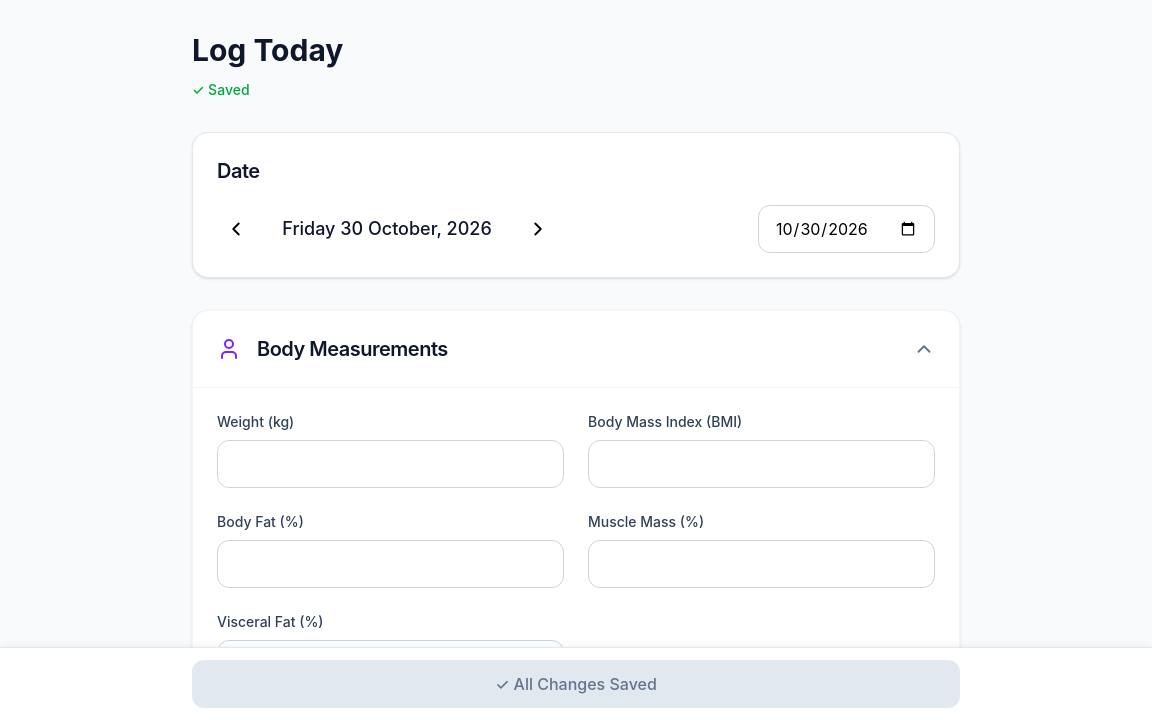
it: LogBodyMeasurements › handles save failure
The width and height of the screenshot is (1152, 720).
Type "18.5" into the number field labelled "Body Fat (%)" at (390, 564), box [217,540,564,588]
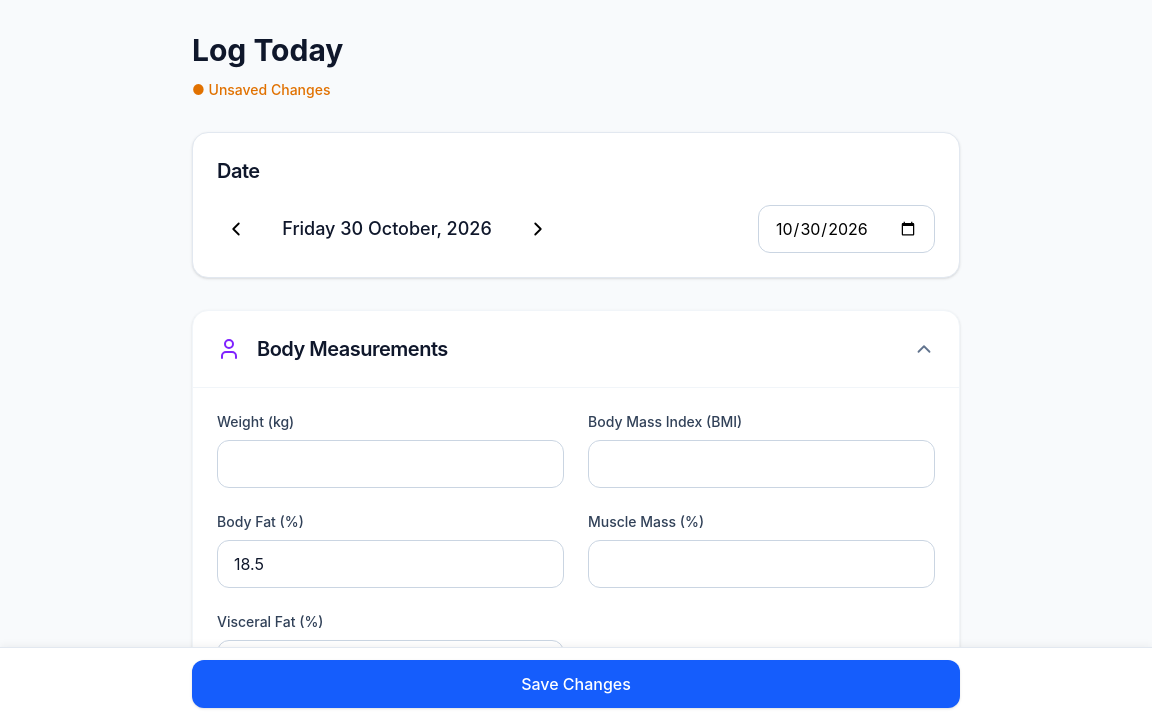
Click the button "Save Changes" at (576, 684), box [192,660,960,708]
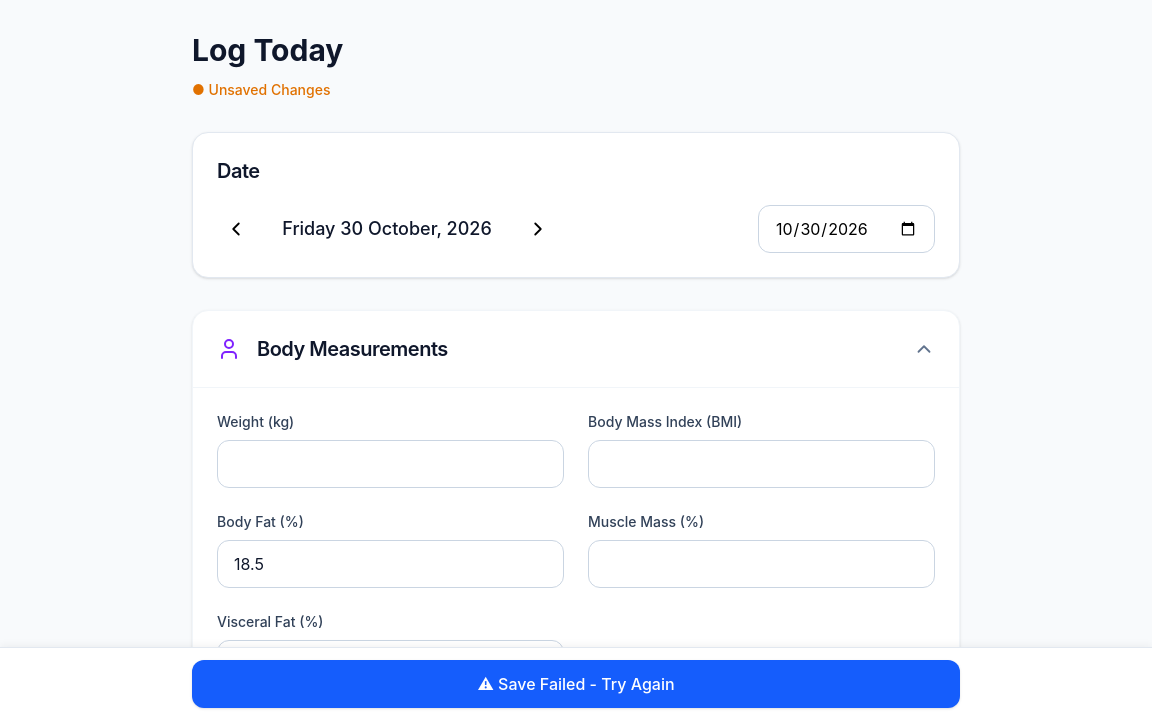
expect the button "⚠ Save Failed - Try Again" is shown: met, box [192,660,960,708]
